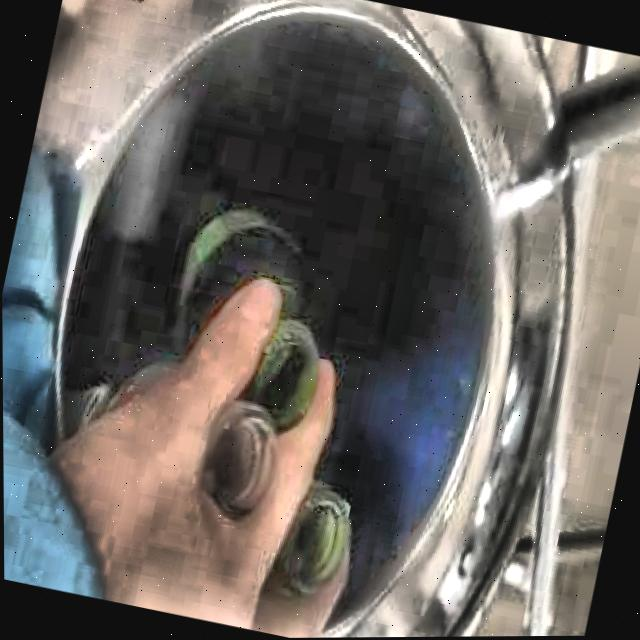glass: (175, 208, 318, 516), (269, 482, 346, 593), (69, 359, 169, 429)
